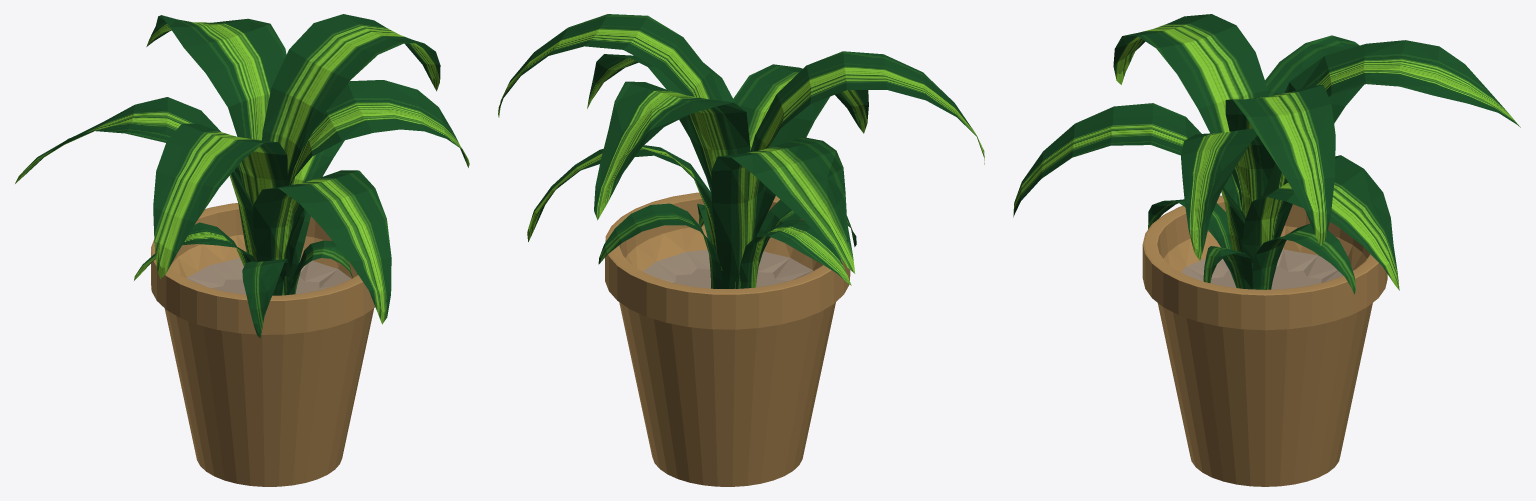
Rendered from sweethome3d-scopia-plant.glb.
The picture shows the model from 3 angles, left to right: view 1: azimuth 30°, elevation 25°; view 2: azimuth 150°, elevation 25°; view 3: azimuth 270°, elevation 25°; orthographic projection. The views are drawn at different scales.
Parts seen in each view (by area): view 1: leaf_Plane.010, maceta_Cylinder_maceta, leaf.001_Plane, maceta_Cylinder_tierra_maceta; view 2: maceta_Cylinder_maceta, leaf_Plane.010, leaf.001_Plane, maceta_Cylinder_tierra_maceta; view 3: leaf_Plane.010, maceta_Cylinder_maceta, leaf.001_Plane, maceta_Cylinder_tierra_maceta.
Part boxes in pixels (x1,y1,x2,y2): leaf_Plane.010: (15, 14, 469, 338); maceta_Cylinder_maceta: (151, 203, 375, 486); leaf.001_Plane: (45, 15, 469, 295); maceta_Cylinder_tierra_maceta: (186, 258, 351, 294); maceta_Cylinder_maceta: (605, 192, 850, 486); leaf_Plane.010: (498, 14, 984, 285); leaf.001_Plane: (498, 54, 984, 288); maceta_Cylinder_tierra_maceta: (642, 249, 812, 288); leaf_Plane.010: (1013, 14, 1520, 294); maceta_Cylinder_maceta: (1142, 195, 1387, 486); leaf.001_Plane: (1113, 36, 1287, 289); maceta_Cylinder_tierra_maceta: (1181, 249, 1342, 289).
Size of the model in its own units: 0.5866 by 0.5777 by 0.6523.
Materials: 3 (1 with a texture image).
